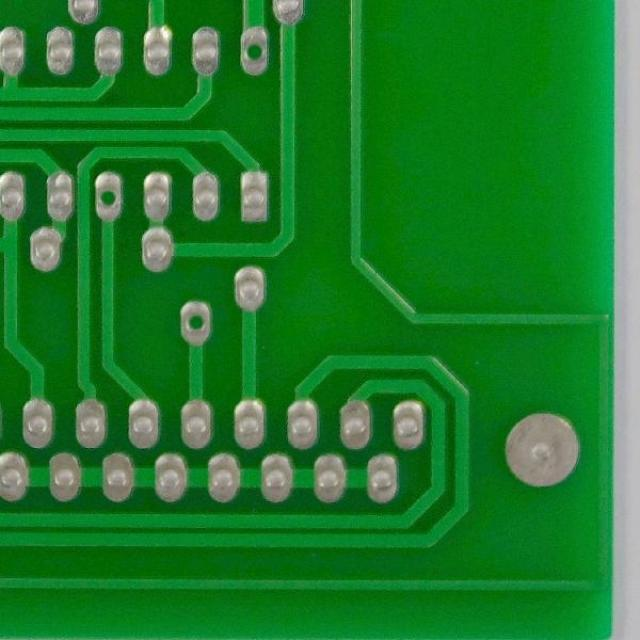Missing_Hole: (92, 170, 127, 223), (177, 298, 213, 348), (237, 26, 272, 76)
